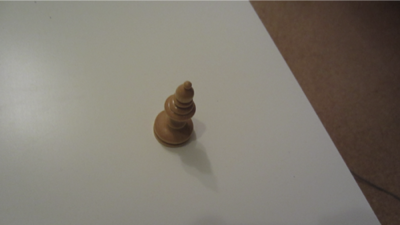white-bishop: (152, 80, 197, 148)
